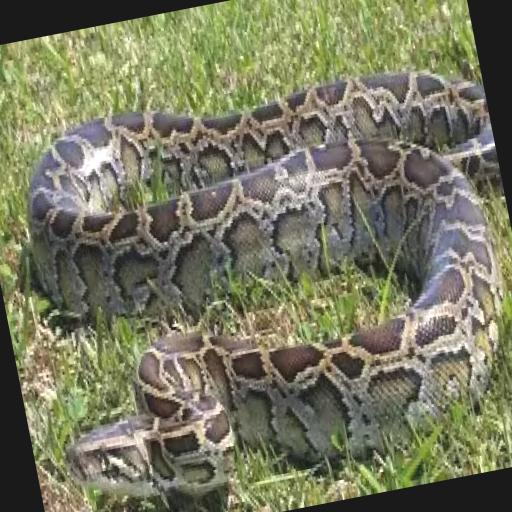snake: (28, 72, 502, 496)
